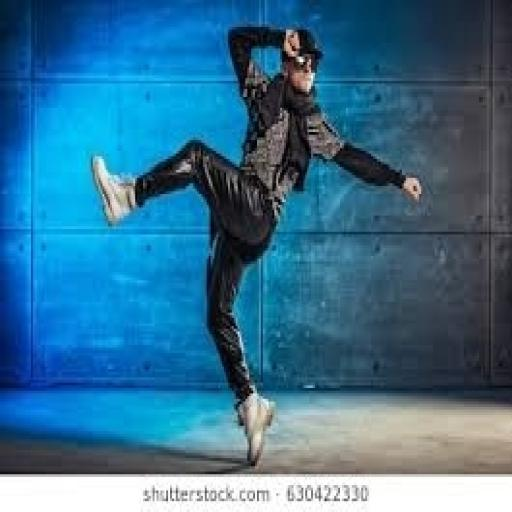dancing: (89, 19, 425, 469)
